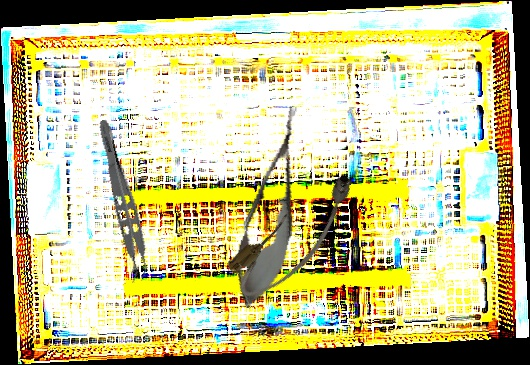Cannula: (220, 165, 374, 309)
Micro Scissor: (225, 100, 318, 315)
Tissue Forceps: (84, 117, 157, 285)
